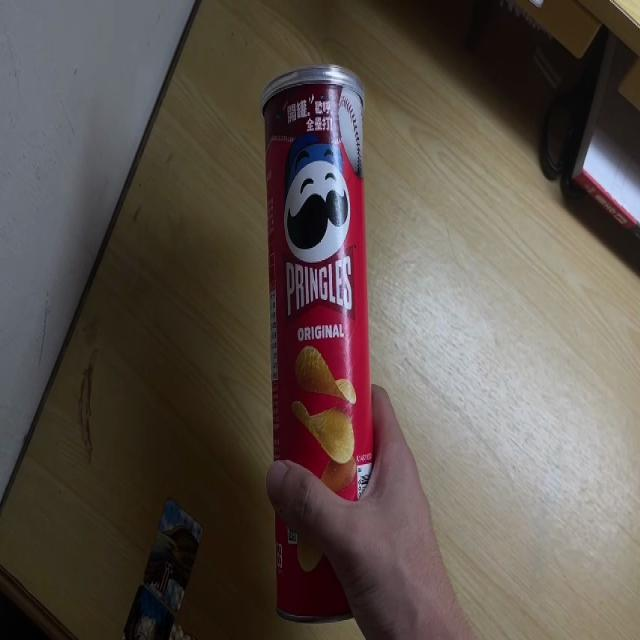Pringles: (259, 67, 379, 623)
